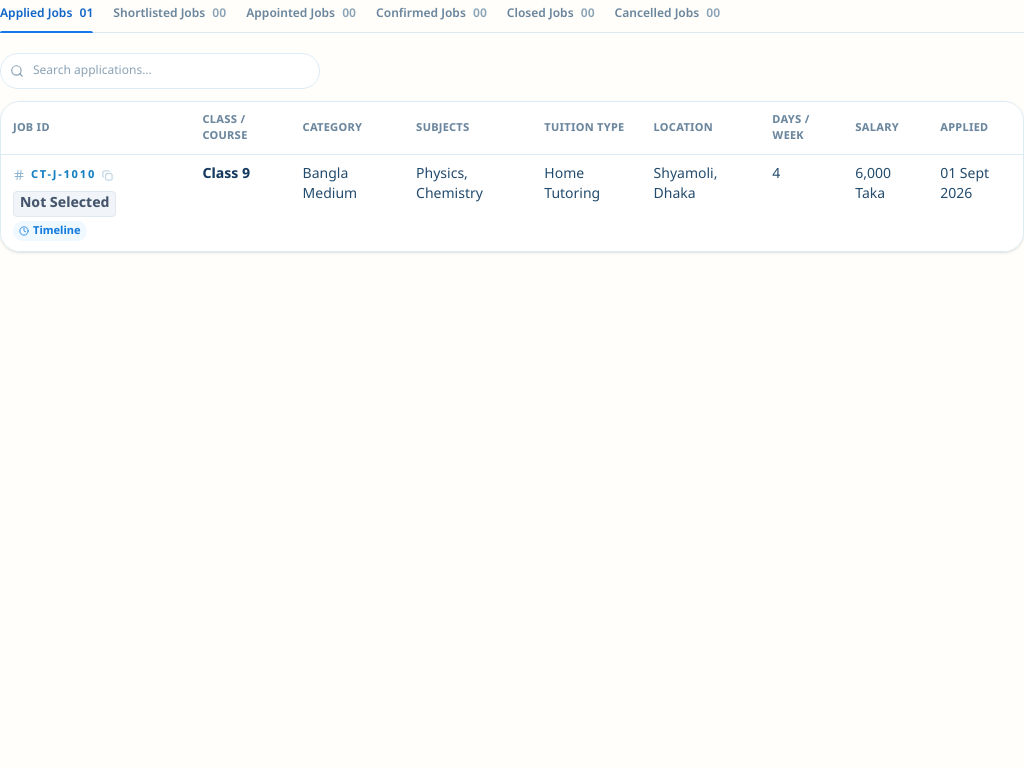
Scenario: Interactive Timeline Tracker Modal › displays graceful unappointed closed guidance when application ends without appointment
The image size is (1024, 768).
Expected: the text "Not Selected" is shown, [13,191,116,217]
// Open Timeline modal
Click the button with aria-label "View timeline for CT-J-1010" at (50, 231), box [13,221,87,241]
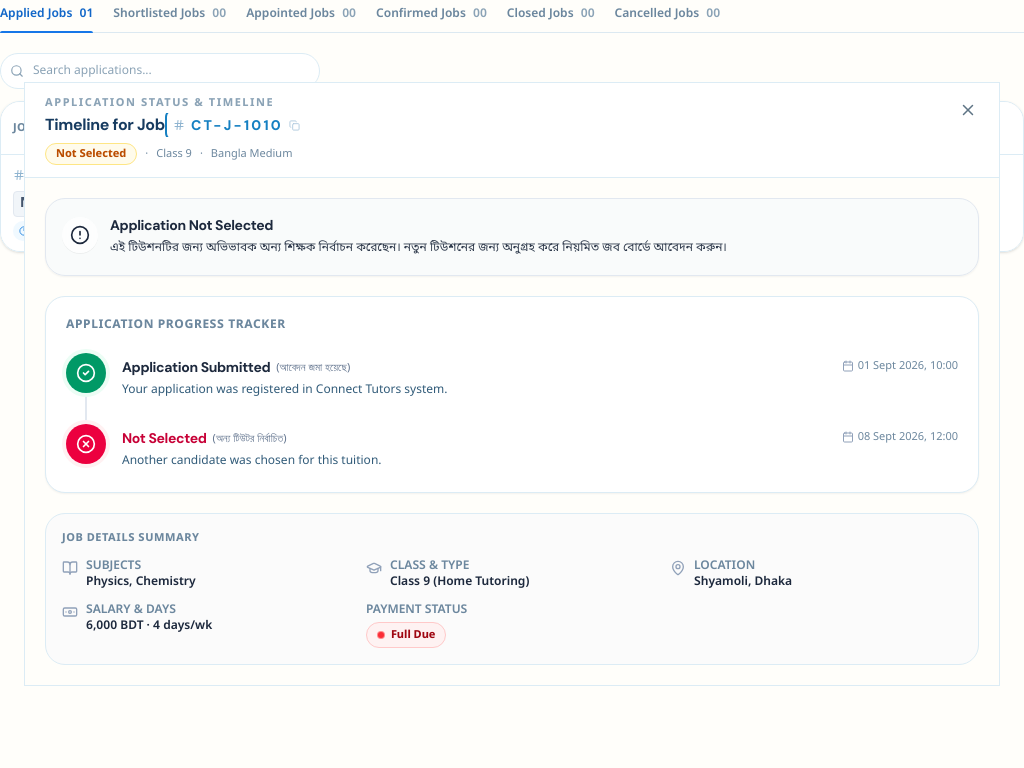
Expected: the dialog with test id "tutor-application-timeline-modal" is shown
Expected: the heading "Application Not Selected" is shown, [110,216,273,234]
Expected: the text "এই টিউশনটির জন্য অভিভাবক অন্য শিক্ষক নির্বাচন করেছেন" is shown, [110,240,727,256]
